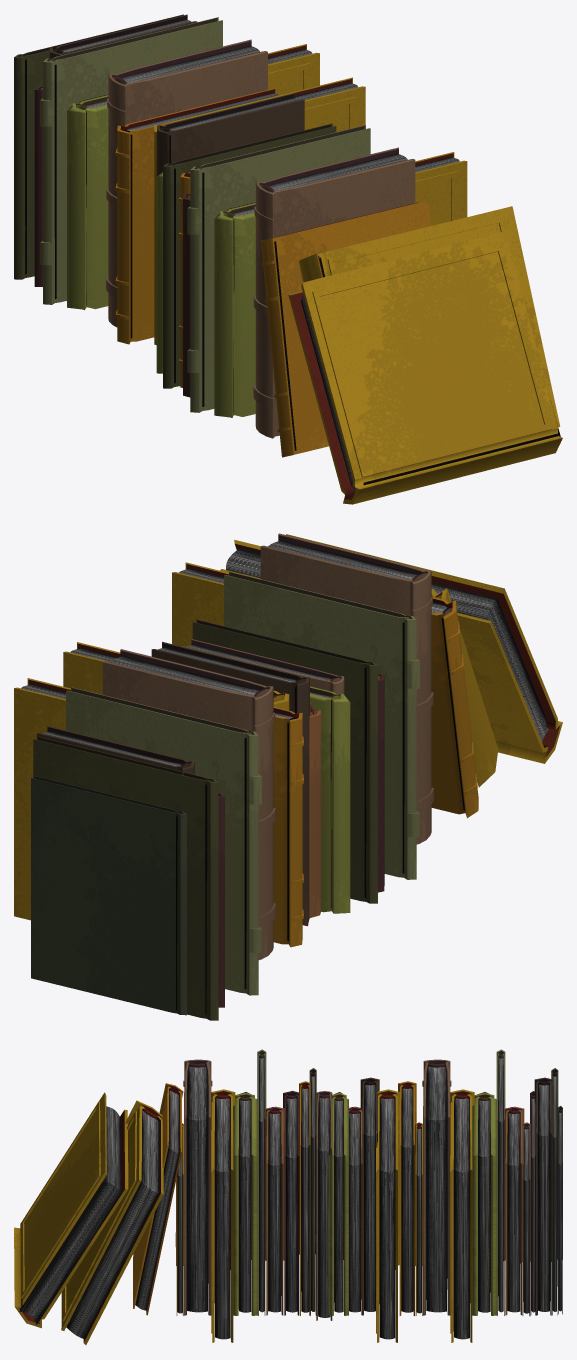
The model's file is Shelf13.fbx.
The picture shows the model from 3 angles, top to bottom: view 1: azimuth 30°, elevation 25°; view 2: azimuth 150°, elevation 25°; view 3: azimuth 270°, elevation 25°; orthographic projection. The views are drawn at different scales.
Parts seen in each view (by area): view 1: pCube119, pCube14 (×2), pCube71 (×2), pCube15 (×3), pCube11 (×3), pCube12 (×4), pCube67 (×2), pCube68 (×2), pCube69 (×2), pages13 (×2), pages39, pages16 (×2) (+1 smaller); view 2: pCube14 (×2), pCube66, pCube67 (×2), pCube71 (×3), pCube15 (×2), pCube12 (×4), pCube119, pCube11, pCube68 (×2), pages13 (×3), pages39, pCube69 (×2) (+6 smaller); view 3: pages14 (×4), pages13 (×3), pCube12 (×4), pCube119, pCube11 (×3), pages17 (×3), pages15 (×3), pages11 (×3), pages8 (×2), pCube71 (×3), pages39, pCube15 (×3) (+14 smaller).
Boxes of the visible parts, x1,y1,x2,y2 form: pCube119: (288, 231, 562, 504); pCube14 (×2): (40, 17, 370, 412); pCube71 (×2): (106, 39, 415, 438); pCube15 (×3): (115, 88, 430, 457); pCube11 (×3): (67, 94, 255, 417); pCube12 (×4): (154, 44, 560, 427); pCube67 (×2): (14, 14, 336, 388); pCube68 (×2): (49, 14, 304, 175); pCube69 (×2): (34, 87, 190, 397); pages13 (×2): (122, 46, 407, 190); pages39: (301, 295, 560, 494); pages16 (×2): (54, 64, 204, 406); pCube14 (×2): (66, 571, 419, 995); pCube66: (31, 776, 186, 1015); pCube67 (×2): (33, 619, 377, 1020); pCube71 (×3): (102, 533, 434, 959); pCube15 (×2): (273, 596, 478, 947); pCube12 (×4): (14, 539, 498, 920); pCube119: (286, 534, 562, 763); pCube11: (310, 686, 350, 913); pCube68 (×2): (37, 641, 309, 924); pages13 (×3): (110, 540, 416, 695); pages39: (431, 582, 549, 741); pCube69 (×2): (218, 674, 384, 1007); pages14 (×4): (66, 1098, 469, 1339); pages13 (×3): (187, 1067, 446, 1317); pCube12 (×4): (61, 1089, 474, 1344); pCube119: (14, 1092, 128, 1328); pCube11 (×3): (233, 1092, 497, 1315); pages17 (×3): (268, 1113, 520, 1312); pages15 (×3): (239, 1100, 490, 1312); pages11 (×3): (135, 1088, 413, 1312); pages8 (×2): (364, 1085, 549, 1311); pCube71 (×3): (183, 1059, 451, 1320); pages39: (19, 1106, 121, 1324); pCube15 (×3): (133, 1081, 416, 1315).
Bounding box in the file's own units: 1.09 × 1.07 × 2.56.
